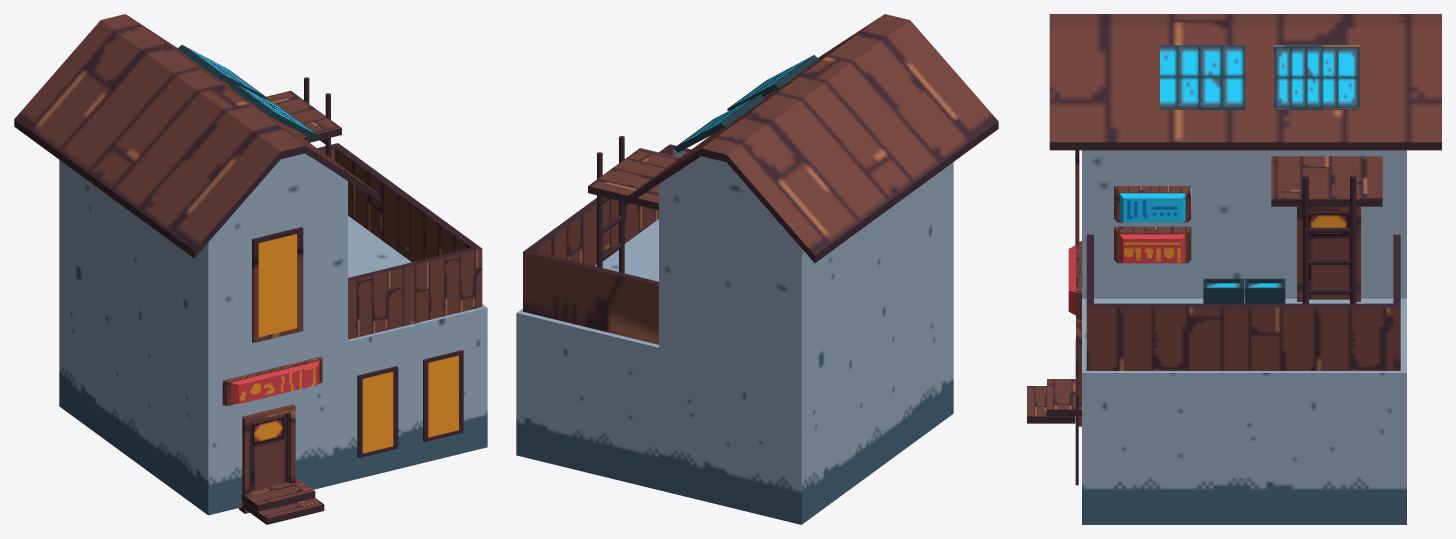
Rendered from Casa3_Erick_2608.fbx.
3 views of the same model, side by side, from view 1: azimuth 30°, elevation 25°; view 2: azimuth 150°, elevation 25°; view 3: azimuth 270°, elevation 25° (orthographic). The views are drawn at different scales.
Visible parts, largest first — view 1: Casa3; view 2: Casa3; view 3: Casa3.
Boxes of the visible parts, left/top/right/bottom form: Casa3: left=14, top=14, right=487, bottom=524; Casa3: left=516, top=14, right=998, bottom=524; Casa3: left=1027, top=14, right=1441, bottom=524.
Size of the model in its own units: 623 by 666 by 705.
